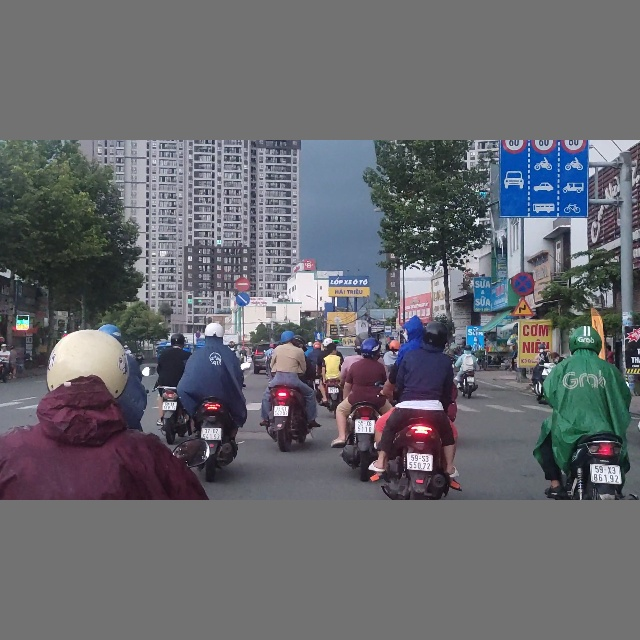I.407a: (314, 331, 323, 340)
I.434a: (384, 325, 392, 336)
P.102: (236, 278, 251, 292)
P.130: (512, 272, 535, 295)
R.302a: (236, 292, 250, 307)
R.415a: (500, 154, 588, 218)
W.202b: (512, 296, 534, 316)
